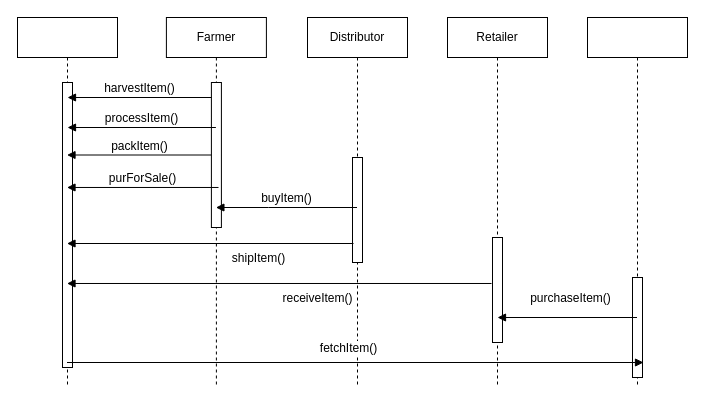
Some shapes in this 705 by 405 pixel diagram are drawn without their labels. The shapes that lost their labels are listed below. From the top down, each one's box as (x1, y1, x2, y2) in pixels, then its label:
(16, 16, 118, 388): CoffeItem
(586, 16, 688, 388): Consumer
